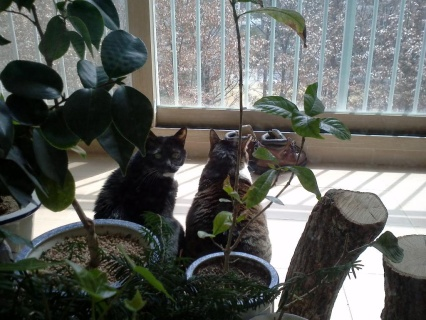Cat: (88, 126, 191, 256), (177, 128, 272, 264)
